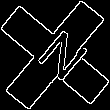N_SW: (23, 23, 87, 87)
